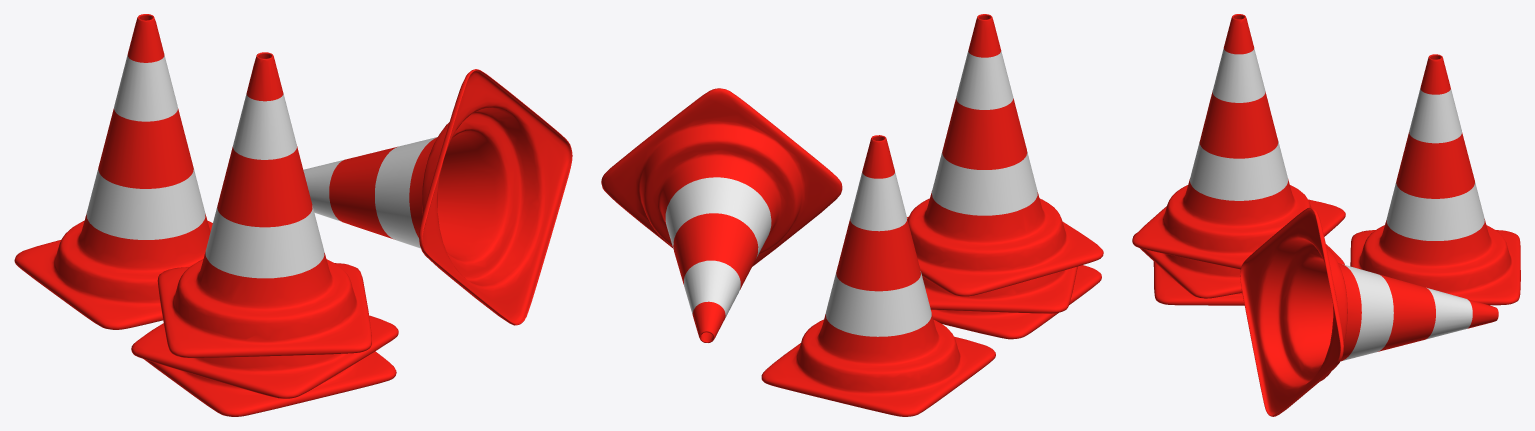
The picture shows the model from 3 angles, left to right: view 1: azimuth 30°, elevation 25°; view 2: azimuth 150°, elevation 25°; view 3: azimuth 270°, elevation 25°; orthographic projection. The views are drawn at different scales.
Parts seen in each view (by area): view 1: object 1, RoadCone.003_white.001_0; view 2: object 1, RoadCone.003_white.001_0; view 3: object 1, RoadCone.003_white.001_0.
Boxes of the visible parts, x1=… form: object 1: x1=14, y1=14, x2=572, y2=416; RoadCone.003_white.001_0: x1=205, y1=93, x2=324, y2=278; object 1: x1=601, y1=14, x2=1103, y2=416; RoadCone.003_white.001_0: x1=931, y1=51, x2=1037, y2=215; object 1: x1=1132, y1=14, x2=1520, y2=416; RoadCone.003_white.001_0: x1=1190, y1=48, x2=1288, y2=200.
Size of the model in its own units: 5.36 by 3.73 by 4.55.
